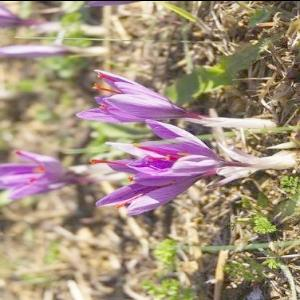Saffron: (72, 67, 203, 123), (133, 122, 240, 182), (0, 151, 79, 198)
